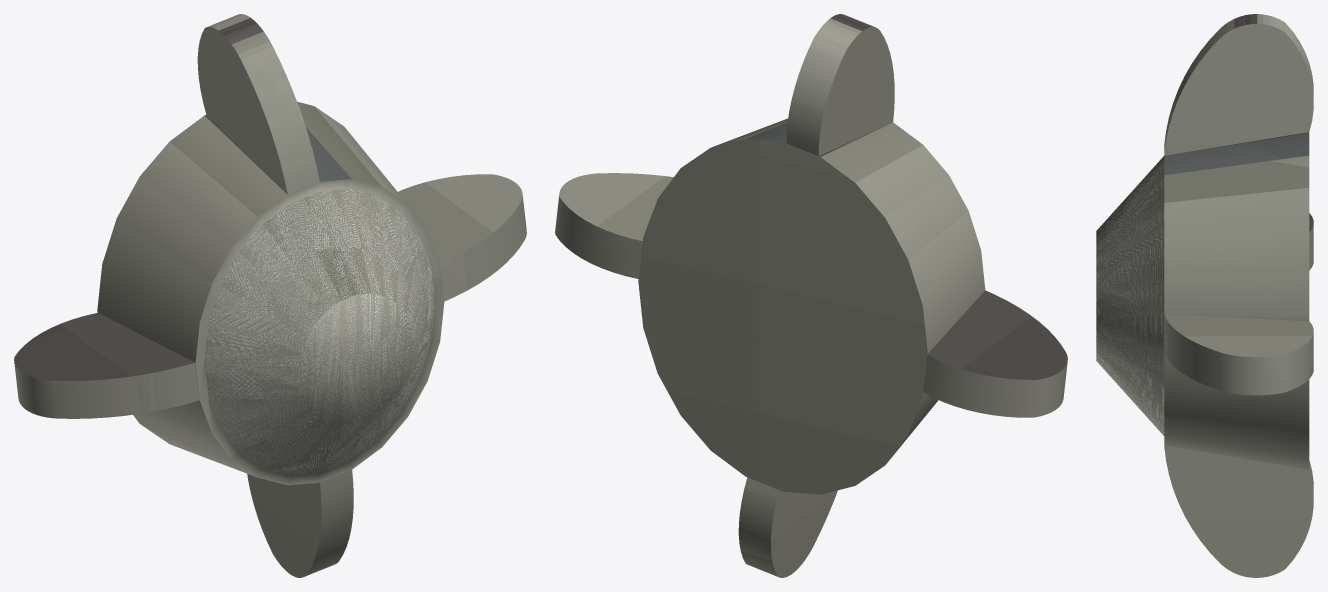
Rendered from original-7.obj.
3 renders of one model, left to right at view 1: azimuth 30°, elevation 25°; view 2: azimuth 150°, elevation 25°; view 3: azimuth 270°, elevation 25°, orthographic. The views are drawn at different scales.
Parts seen in each view (by area): view 1: mesh7/mesh7-geometry#mesh7-geometry; view 2: mesh7/mesh7-geometry#mesh7-geometry; view 3: mesh7/mesh7-geometry#mesh7-geometry.
Part boxes in pixels (x1,y1,x2,y2): mesh7/mesh7-geometry#mesh7-geometry: [14, 14, 526, 577]; mesh7/mesh7-geometry#mesh7-geometry: [555, 14, 1067, 577]; mesh7/mesh7-geometry#mesh7-geometry: [1096, 14, 1313, 577].
Size of the model in its own units: 0.5214 by 0.5654 by 0.2116.
